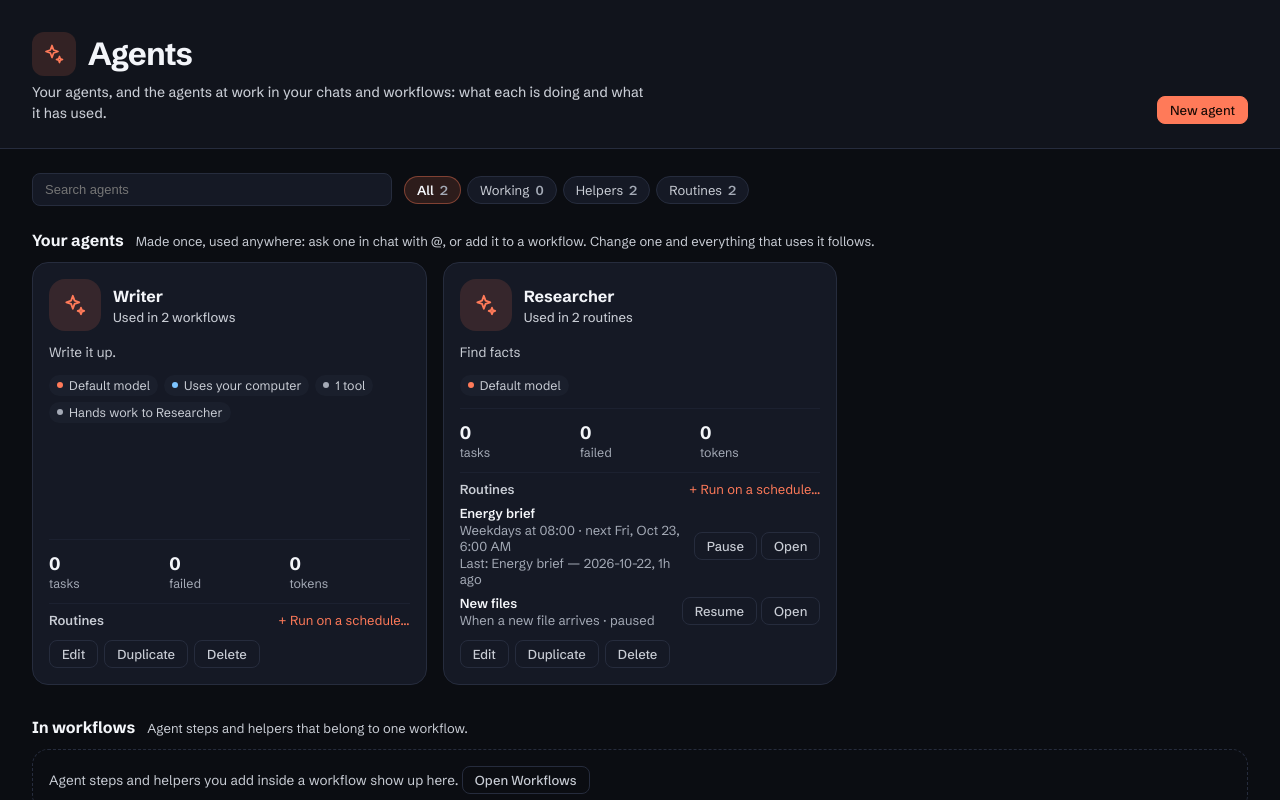
Test case: Routines › filters to the agents that have routines
Check: the 3rd text "2" is shown, box [728,182,736,198]
Click the button "Routines 2". click: (703, 190)
box: [656,176,749,204]
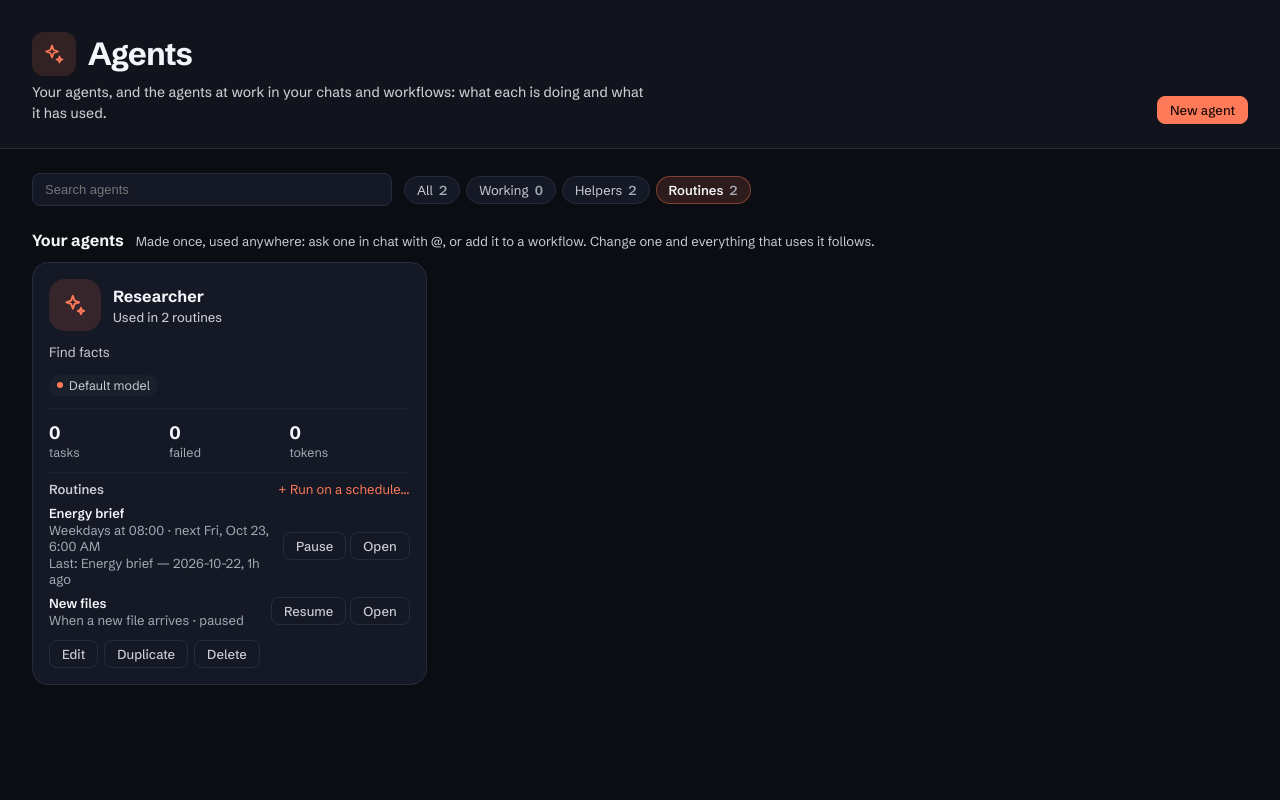
Check: the element "Researcher" is shown, box [32,262,427,685]
Check: the text "Writer" is gone
